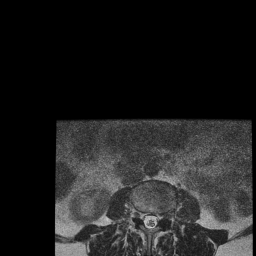CCS_normal: (147, 207, 153, 234)
LFS_normal: (160, 203, 167, 225)
LLS_normal: (153, 207, 160, 231)
RFS_normal: (135, 202, 142, 223)
RLS_normal: (142, 205, 147, 230)
